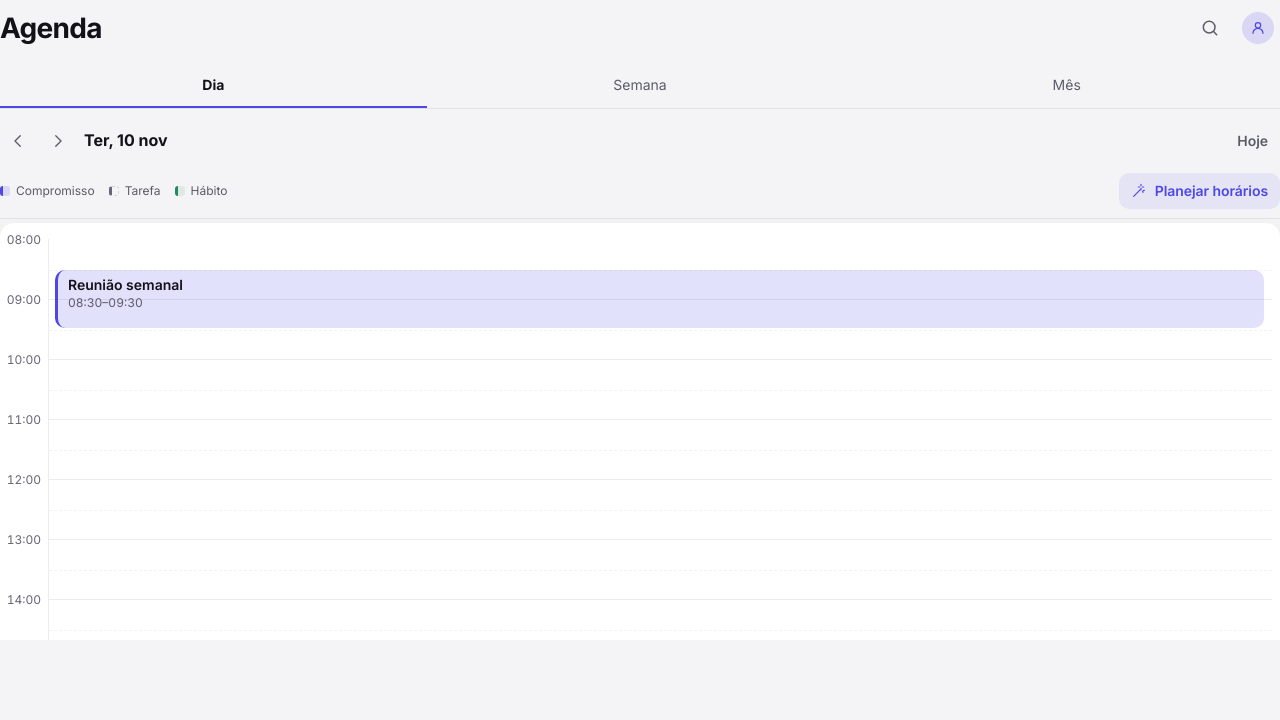
Test case: salva o valor nativo visível 08:00 quando o rascunho ainda contém 08:30 (duração alterada: true)
Later steps or results of the test are not shown.
Click the button with class "block".
click(126, 284)  # box [55,270,1264,328]
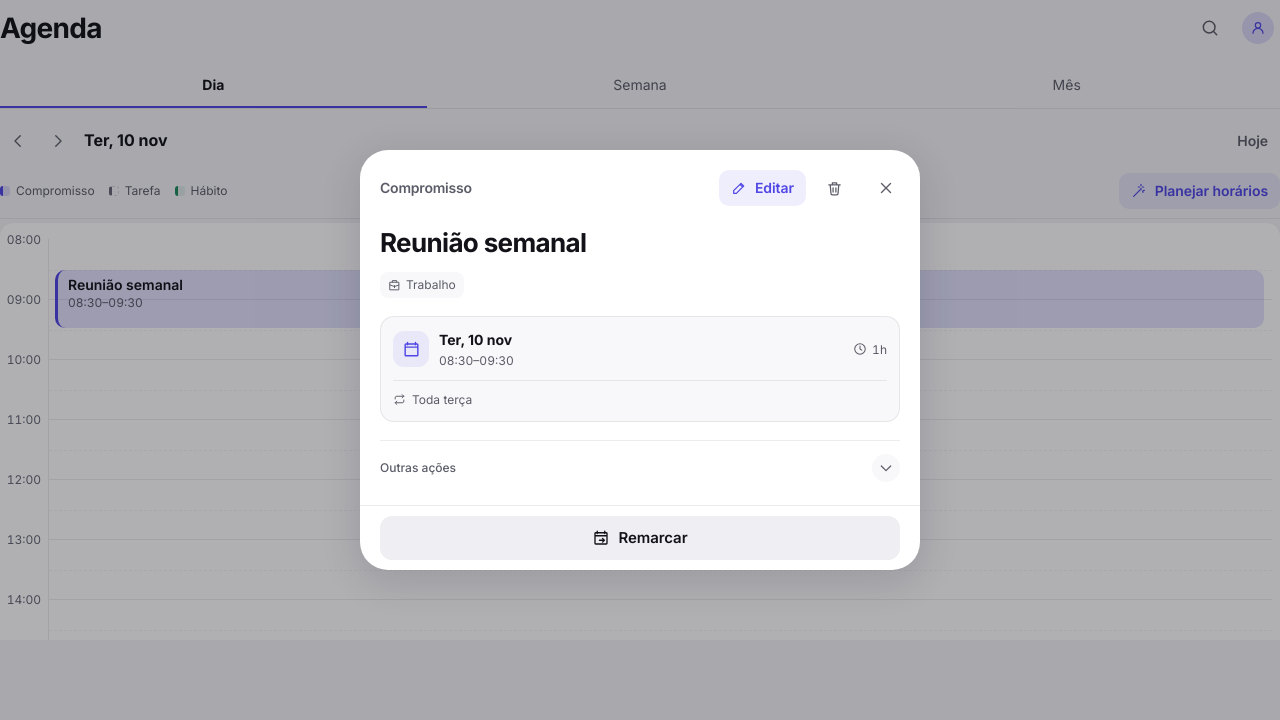
Click the button "Editar".
click(762, 188)  # box [719,170,806,206]
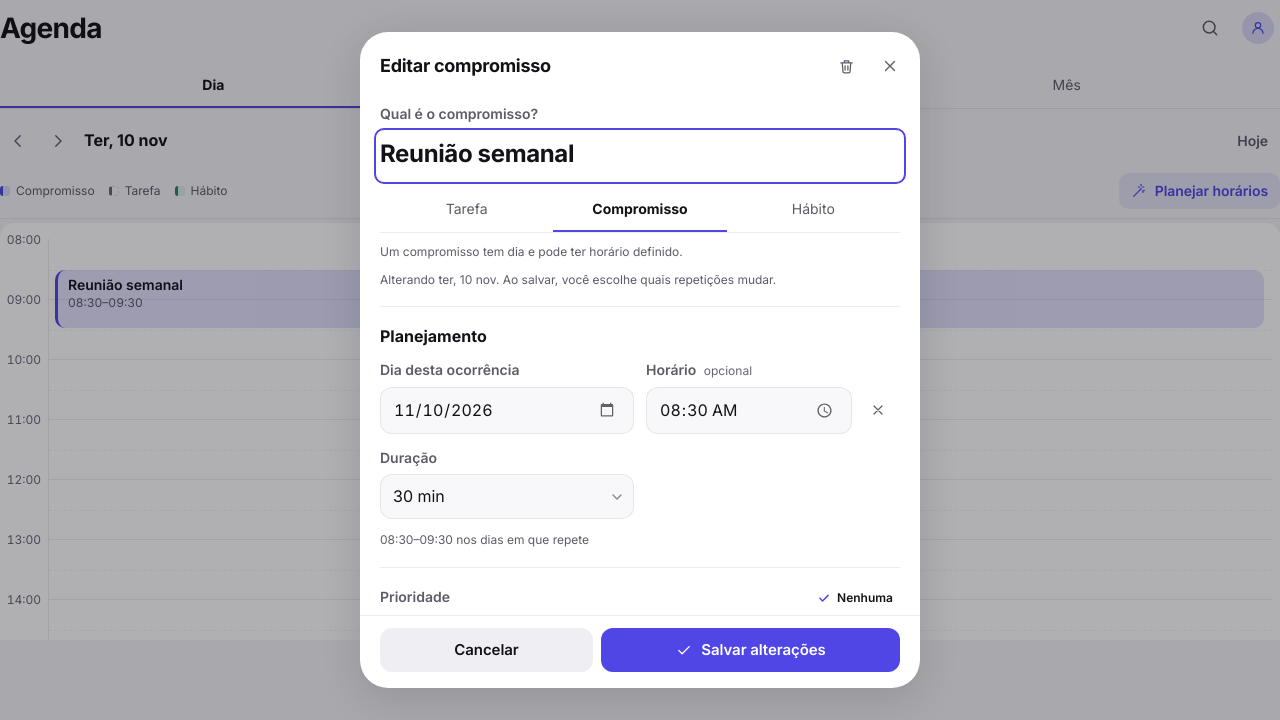
Select "30 min" in the dropdown named "Duração" at (507, 497), box [380,474,634,519]
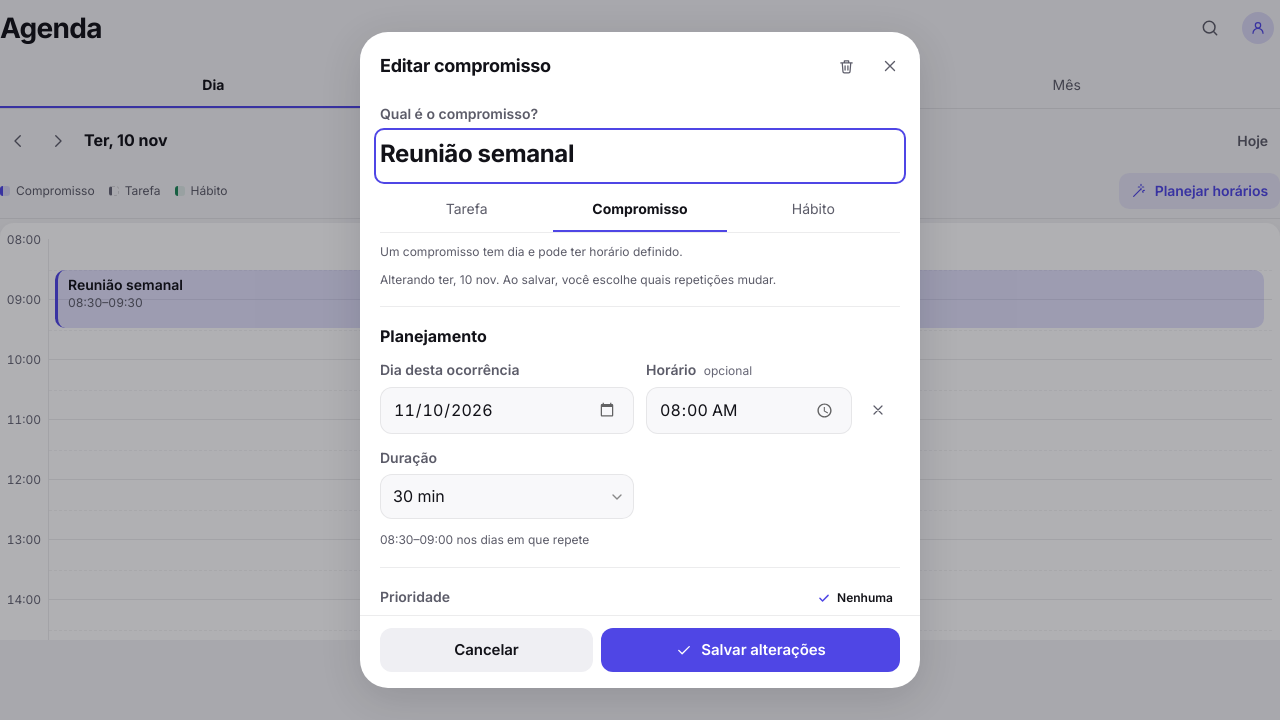
Check: the time field named "Horário de início" holds "08:00", box [646,387,852,434]
